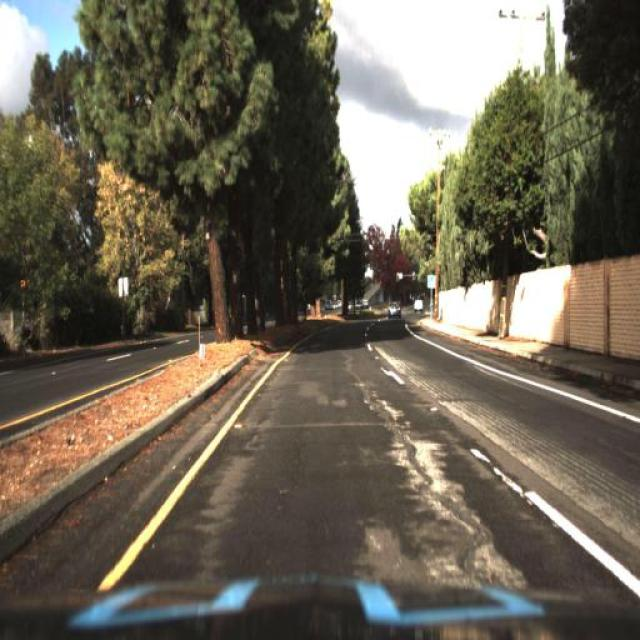car: (383, 295, 408, 320)
